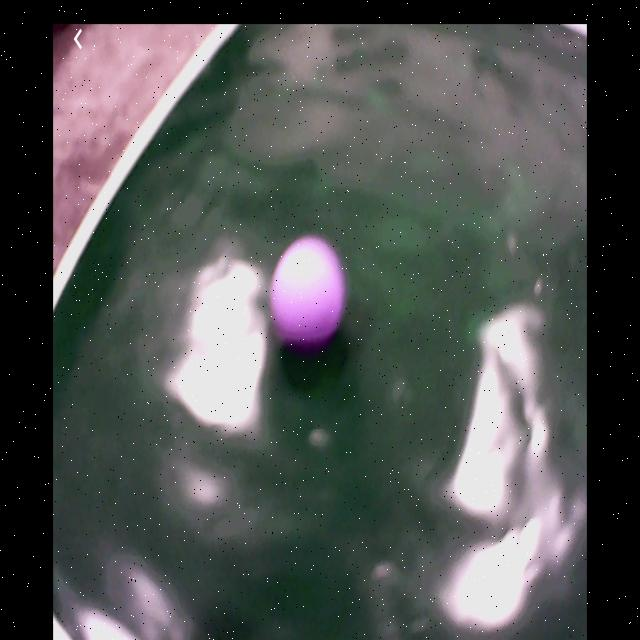ball: (269, 234, 348, 349)
